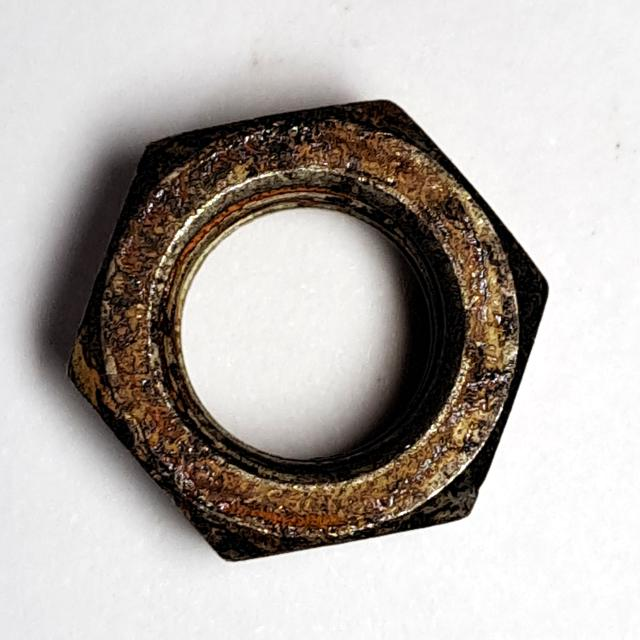Rust: (55, 83, 558, 575)
